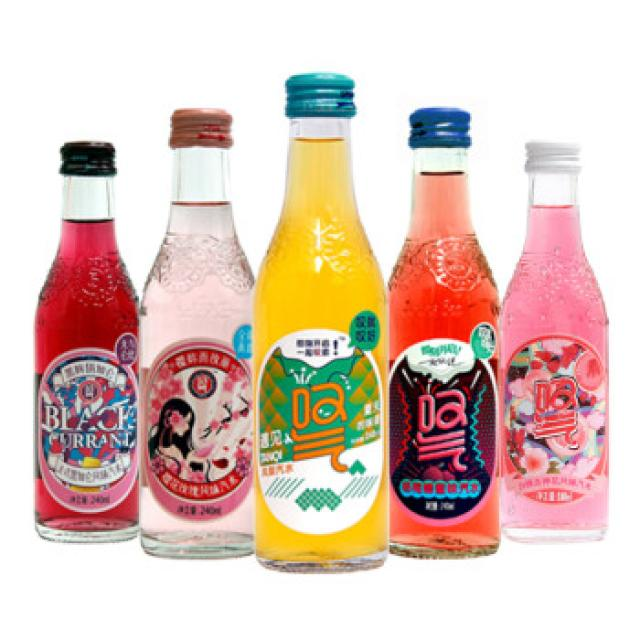bottle: (247, 68, 386, 578), (137, 105, 256, 562), (387, 104, 504, 563), (498, 139, 610, 551), (29, 138, 138, 548)
